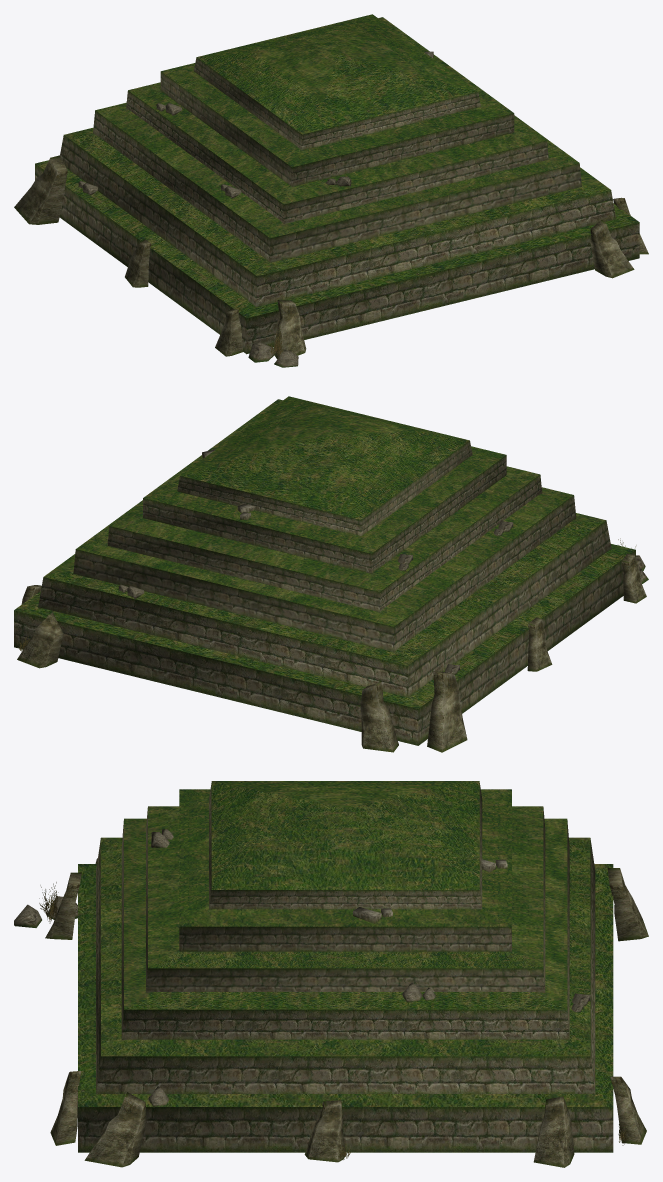
Rendered from cj_grave_big_01.glb.
The picture shows the model from 3 angles, top to bottom: view 1: azimuth 30°, elevation 25°; view 2: azimuth 150°, elevation 25°; view 3: azimuth 270°, elevation 25°; orthographic projection. The views are drawn at different scales.
Parts seen in each view (by area): view 1: cj_grave_big_02, cj_grave_big_01, cj_grave_big_05, cj_grave_big_04; view 2: cj_grave_big_02, cj_grave_big_01, cj_grave_big_05, cj_grave_big_04; view 3: cj_grave_big_01, cj_grave_big_02, cj_grave_big_05, cj_grave_big_04, cj_grave_big_03, cj_grave_big_06.
Part boxes in pixels (bbox=[...]): cj_grave_big_02: bbox=[35, 57, 639, 354]; cj_grave_big_01: bbox=[35, 14, 639, 318]; cj_grave_big_05: bbox=[14, 155, 648, 359]; cj_grave_big_04: bbox=[78, 103, 351, 367]; cj_grave_big_02: bbox=[14, 440, 635, 745]; cj_grave_big_01: bbox=[14, 396, 635, 708]; cj_grave_big_05: bbox=[17, 553, 646, 752]; cj_grave_big_04: bbox=[118, 521, 648, 674]; cj_grave_big_01: bbox=[78, 781, 613, 1106]; cj_grave_big_02: bbox=[78, 783, 613, 1152]; cj_grave_big_05: bbox=[45, 858, 648, 1167]; cj_grave_big_04: bbox=[14, 829, 590, 1107]; cj_grave_big_03: bbox=[353, 859, 507, 923]; cj_grave_big_06: bbox=[39, 882, 628, 1159].
Bounding box in the file's own units: 25.82 × 10.12 × 25.25.
6 materials, 6 textured.
